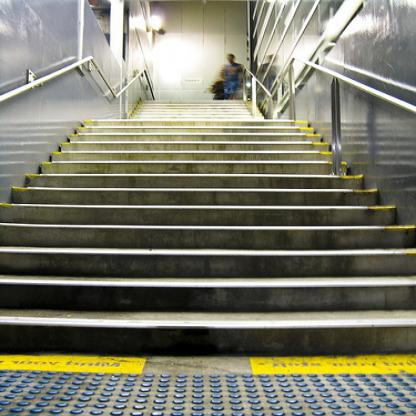stairs: (21, 207, 394, 368)
